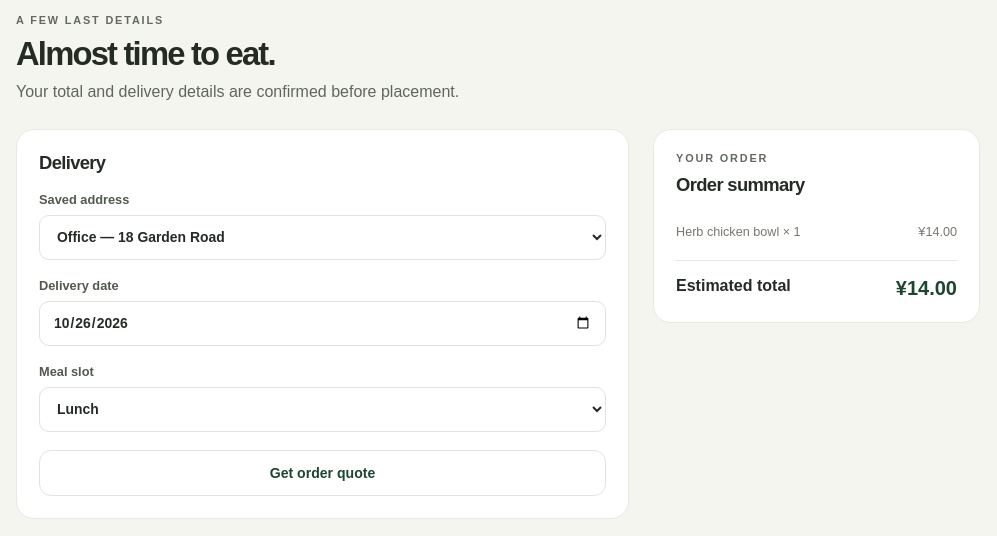
checkout and asynchronous order confirmation › requires accepting an adjusted slot and clears the cart only after a confirmed order
The image size is (997, 536).
Click the button "Get order quote" at (322, 473), box [39, 450, 606, 496]
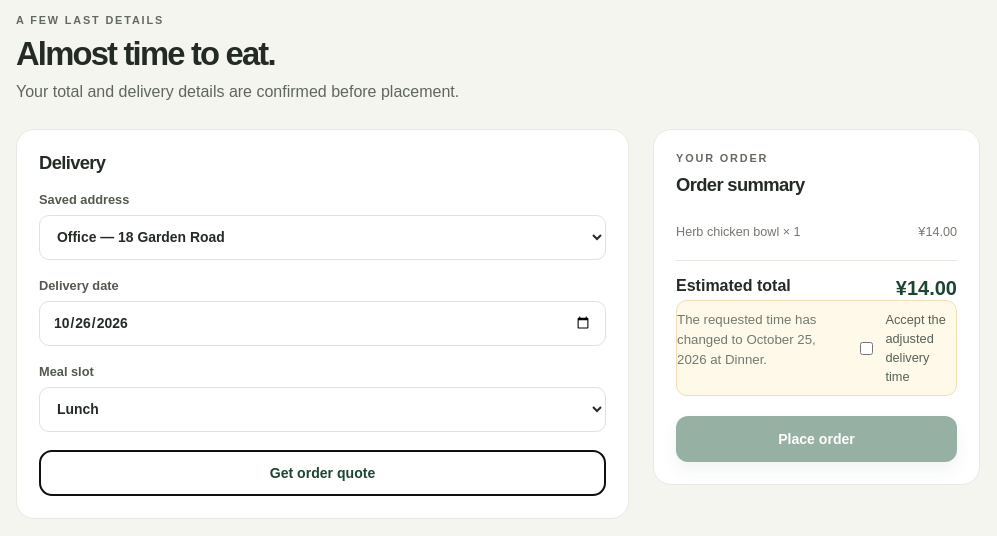
Check: the text "The requested time has changed to October 25, 2026 at Dinner." is shown, box [677, 312, 816, 366]
Check: the button "Place order" is disabled, box [676, 416, 957, 462]
Click the checkbox labelled "Accept the adjusted delivery time" at (867, 348), box [860, 340, 873, 357]
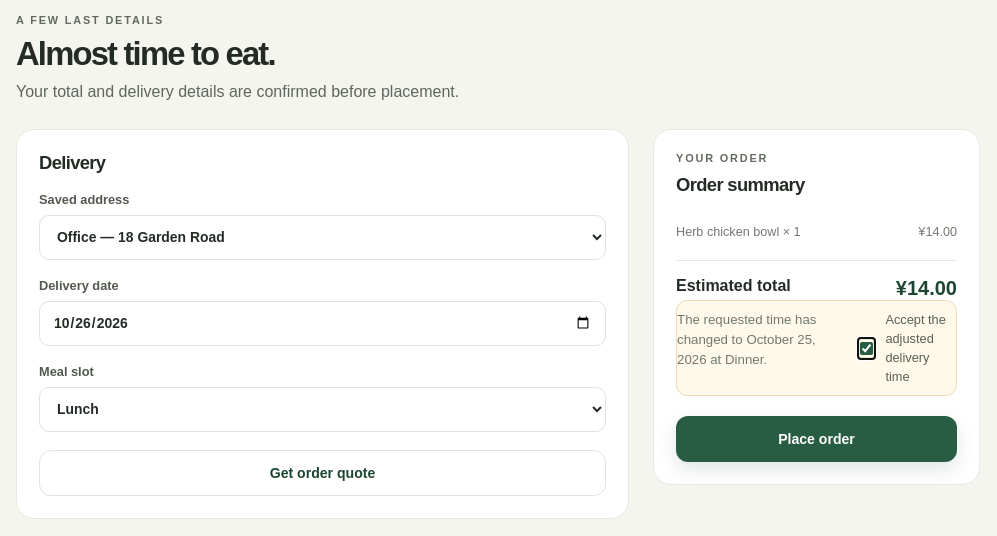
Click the button "Place order" at (816, 439), box [676, 416, 957, 462]
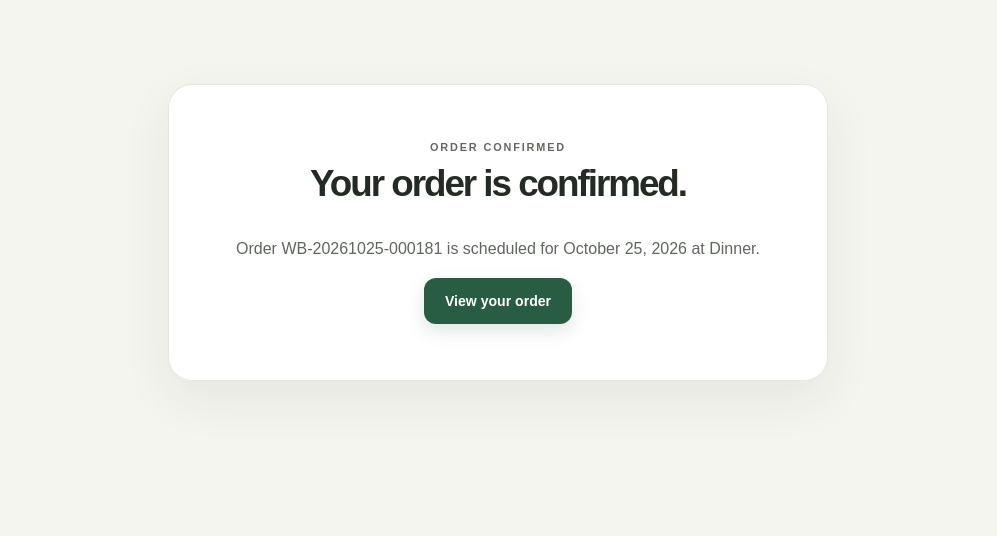
Check: the heading "Your order is confirmed." is shown, box [310, 163, 686, 204]
